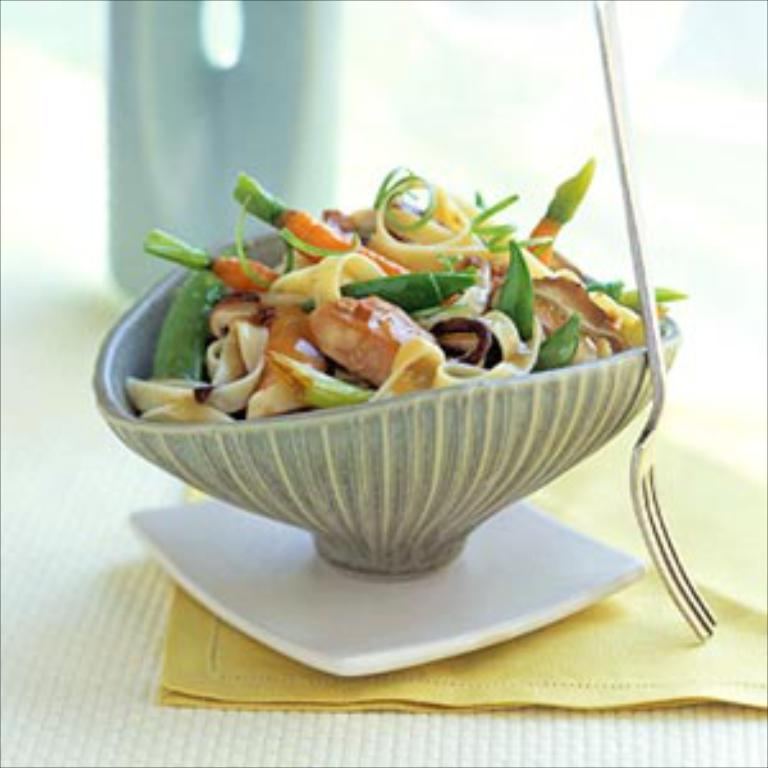pasta: (110, 179, 660, 474)
